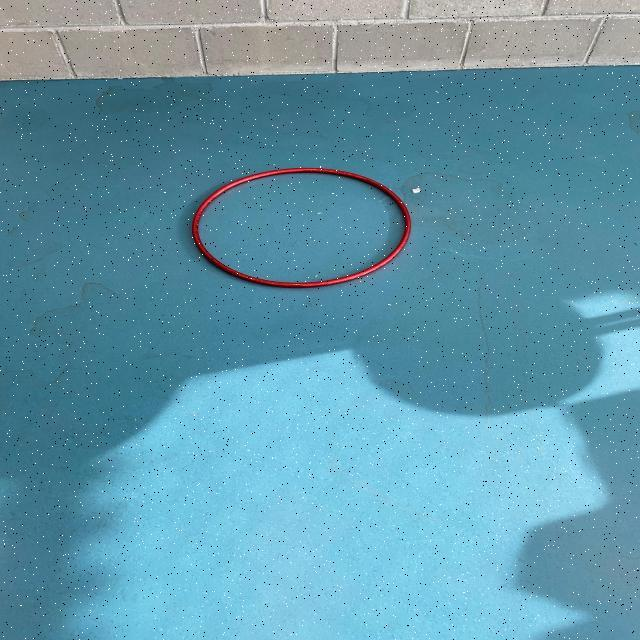Circle: (182, 163, 416, 294)
